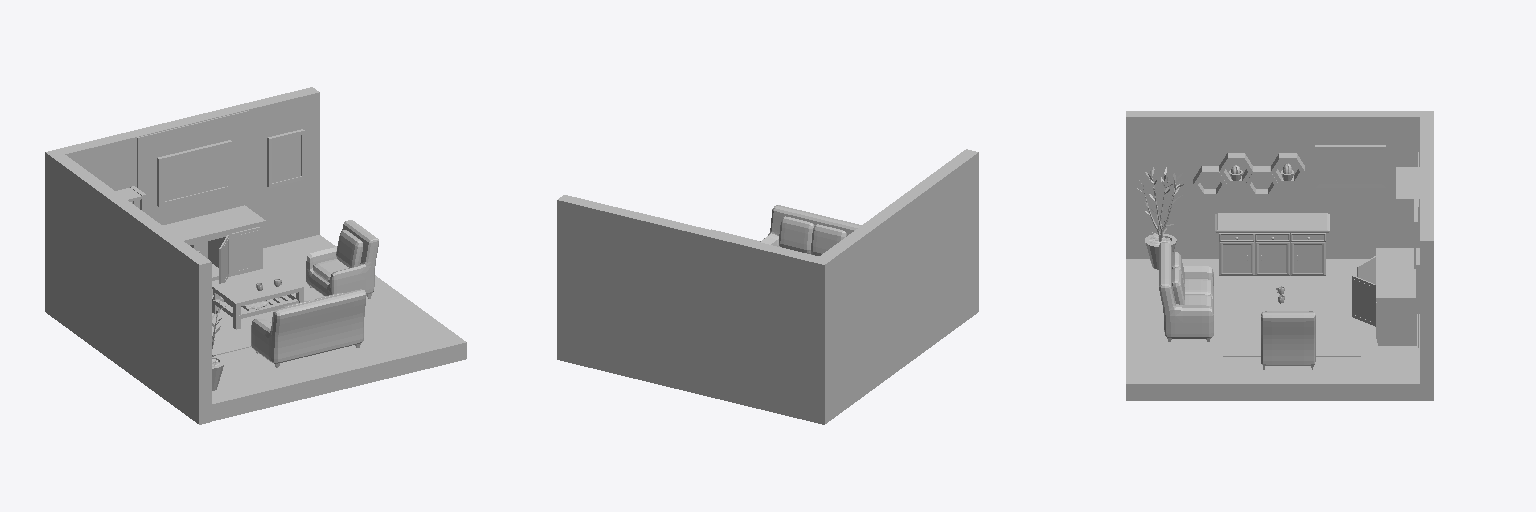
File: Room.obj
3 views of the same model, side by side, from view 1: azimuth 30°, elevation 25°; view 2: azimuth 150°, elevation 25°; view 3: azimuth 270°, elevation 25° (orthographic).
Parts seen in each view (by area): view 1: Wall_Plane.002, Wall_tile_Plane.003, Sofa_Cube.016, Single_sofa_Cube.022, Cupboard.001_Cube.003, Table_Cube.030, Mug.001_Cylinder.006, Picture_2_Cube.026, Carpet_Plane.004, Cupboard.004_Cube.007, TV_Cube.001; view 2: Wall_Plane.002, Sofa_Cube.016; view 3: Wall_Plane.002, Cupboard_Icosphere.002, Carpet_Plane.004, Sofa_Cube.016, Cupboard.001_Cube.003, Picture_1_Cube.027, Single_sofa_Cube.022, Wallshelf_Circle.001, Bookshelf_Cube, Table_Cube.030, Plant_Cylinder, Cupboard.003_Cube.006.
Part boxes in pixels (left/top/right/bottom): Wall_Plane.002: left=45, top=87, right=466, bottom=424; Wall_tile_Plane.003: left=137, top=110, right=248, bottom=224; Sofa_Cube.016: left=251, top=289, right=366, bottom=367; Single_sofa_Cube.022: left=306, top=220, right=378, bottom=298; Cupboard.001_Cube.003: left=162, top=205, right=265, bottom=280; Table_Cube.030: left=212, top=269, right=303, bottom=329; Mug.001_Cylinder.006: left=163, top=146, right=262, bottom=290; Picture_2_Cube.026: left=267, top=129, right=304, bottom=187; Carpet_Plane.004: left=212, top=269, right=324, bottom=355; Cupboard.004_Cube.007: left=232, top=227, right=261, bottom=274; TV_Cube.001: left=157, top=140, right=231, bottom=206; Wall_Plane.002: left=557, top=149, right=978, bottom=424; Sofa_Cube.016: left=760, top=205, right=861, bottom=256; Wall_Plane.002: left=1126, top=111, right=1433, bottom=400; Cupboard_Icosphere.002: left=1215, top=213, right=1329, bottom=275; Carpet_Plane.004: left=1223, top=283, right=1360, bottom=356; Sofa_Cube.016: left=1159, top=242, right=1213, bottom=341; Cupboard.001_Cube.003: left=1376, top=248, right=1416, bottom=345; Picture_1_Cube.027: left=1315, top=145, right=1385, bottom=187; Single_sofa_Cube.022: left=1261, top=311, right=1315, bottom=369; Wallshelf_Circle.001: left=1193, top=153, right=1304, bottom=197; Bookshelf_Cube: left=1396, top=167, right=1419, bottom=247; Table_Cube.030: left=1265, top=278, right=1312, bottom=311; Plant_Cylinder: left=1137, top=167, right=1183, bottom=269; Cupboard.003_Cube.006: left=1352, top=276, right=1375, bottom=326.
Bounding box in the file's own units: 10.5 × 6 × 10.5.